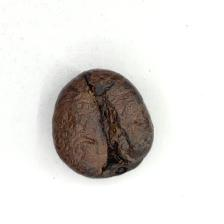NG: (69, 77, 140, 178)
